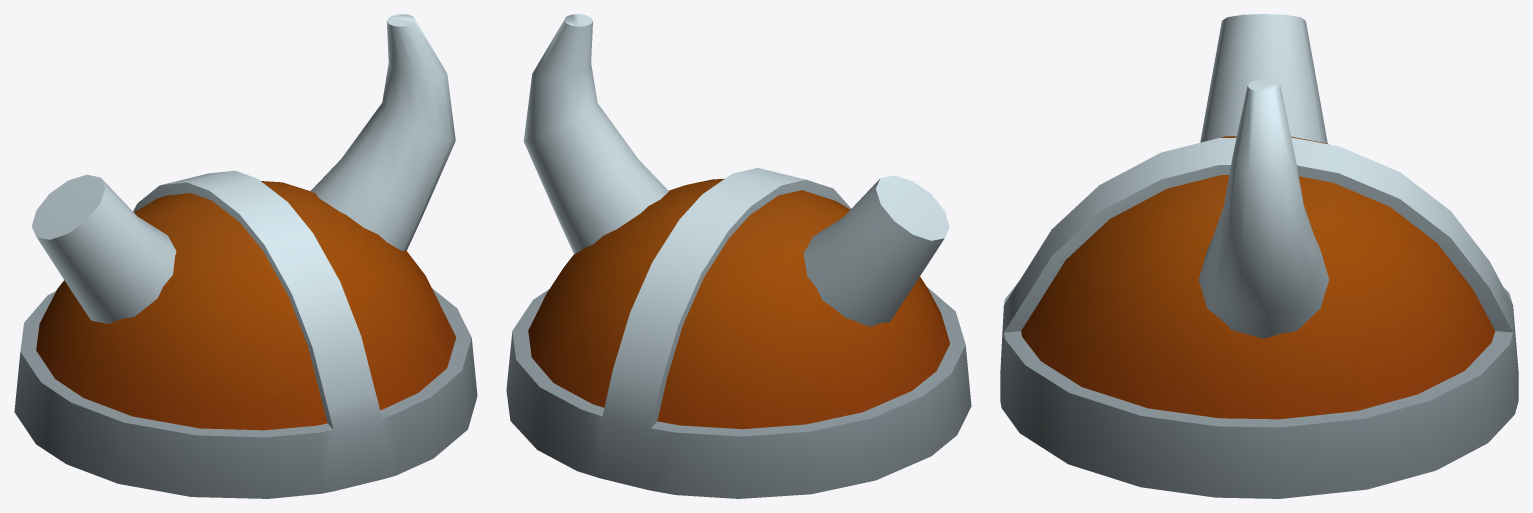
File: Axe_Hat.fbx
The picture shows the model from 3 angles, left to right: view 1: azimuth 30°, elevation 25°; view 2: azimuth 150°, elevation 25°; view 3: azimuth 270°, elevation 25°; orthographic projection. The views are drawn at different scales.
Parts seen in each view (by area): view 1: Circle; view 2: Circle; view 3: Circle.
Part boxes in pixels (box(x1,y1,x2,y2)): Circle: box(14, 14, 477, 498); Circle: box(506, 14, 971, 498); Circle: box(1000, 14, 1518, 498).
Size of the model in its own units: 0.7469 by 0.5895 by 0.7105.
Materials: 1 (1 with a texture image).
